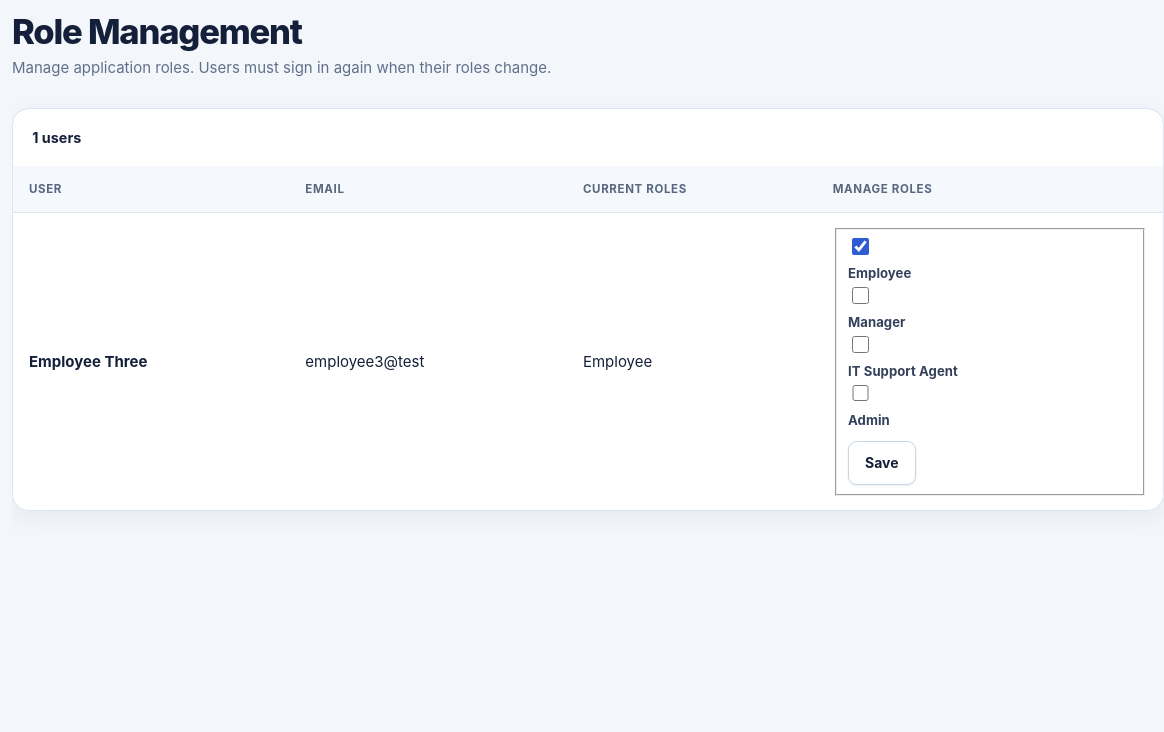
Role Management › renders roles, adds Manager, saves, and refreshes the row
expect the text "employee3@test" is shown: met, box [289, 213, 567, 510]
Click the checkbox labelled "Manager" at (860, 295), box [852, 287, 869, 304]
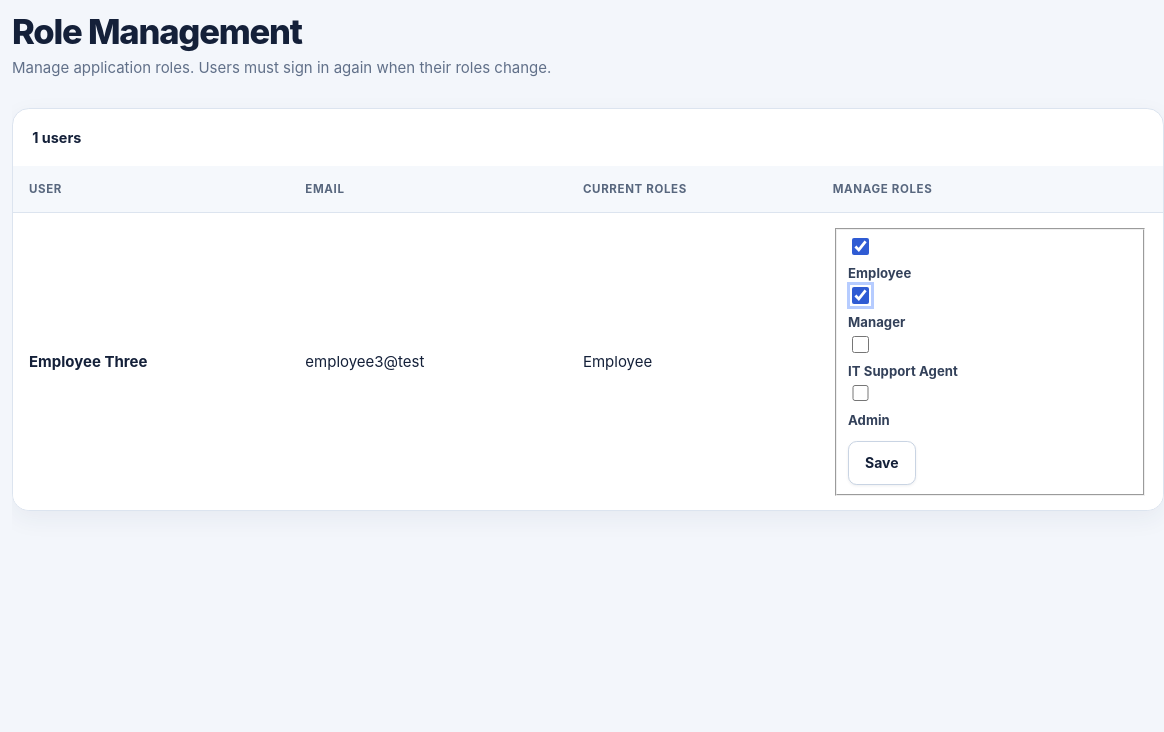
Click the button "Save" at (882, 463), box [848, 441, 916, 485]
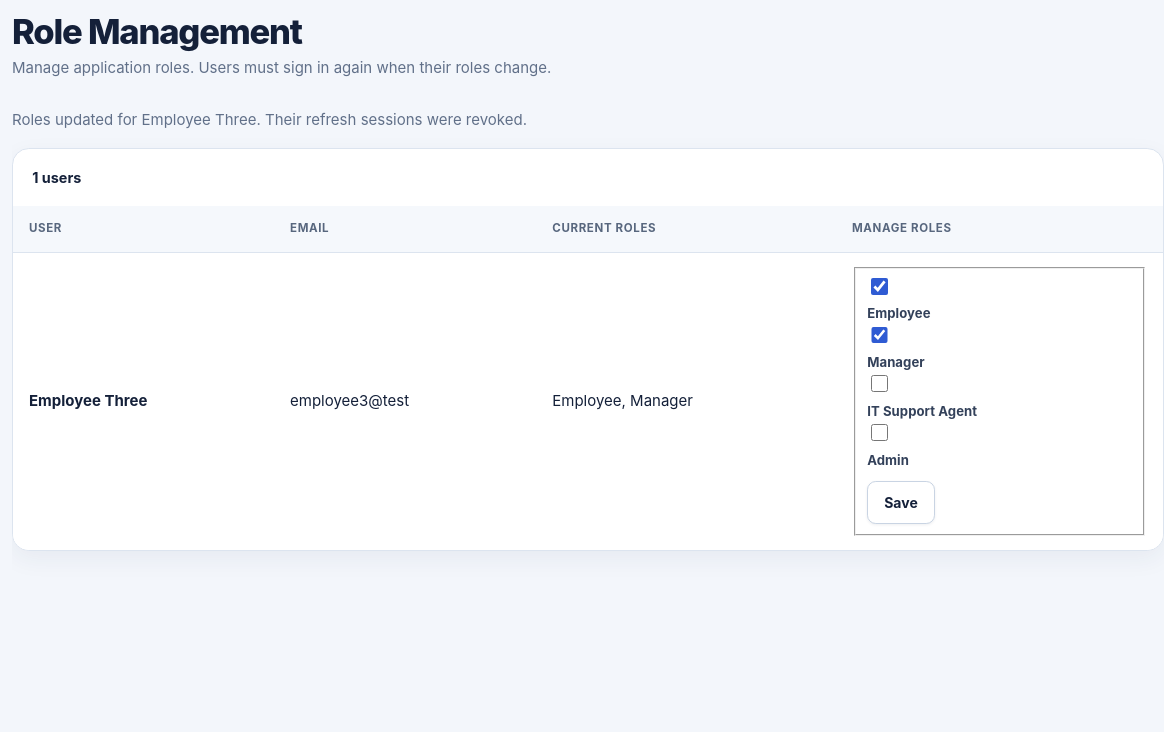
expect the text "Employee, Manager" is shown: met, box [536, 253, 836, 550]
expect the message shows "refresh sessions were revoked": met, box [12, 110, 527, 130]
